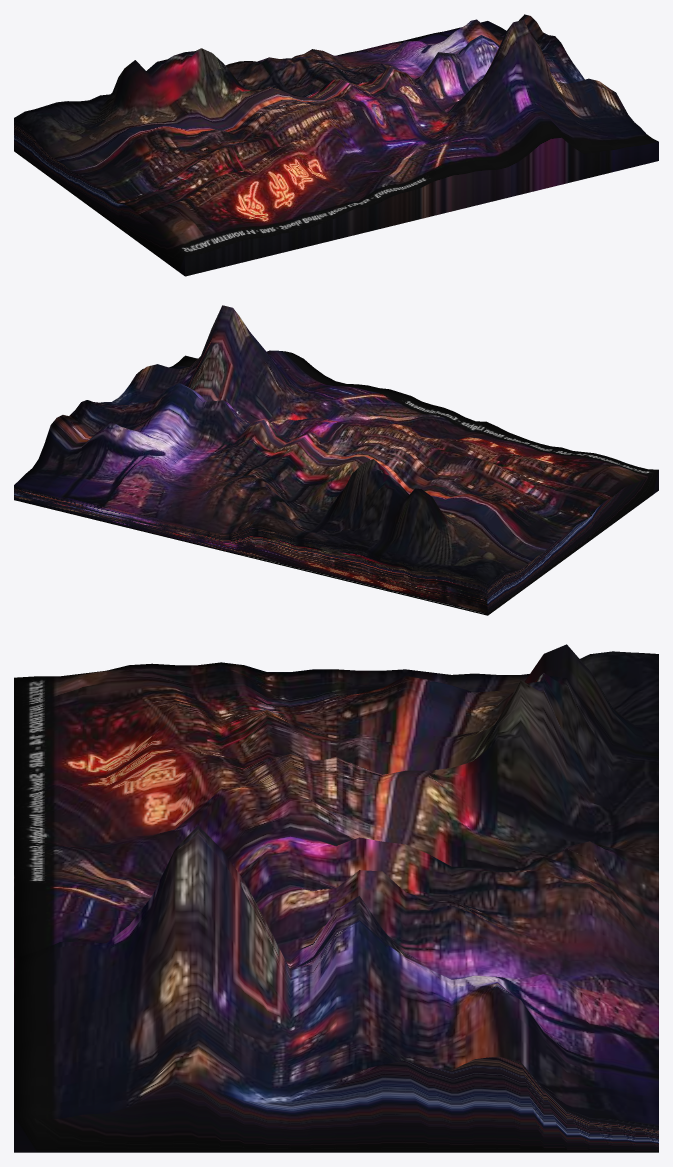
Rendered from SPECIAL_INT_14_Bar.glb.
3 renders of one model, top to bottom at view 1: azimuth 30°, elevation 25°; view 2: azimuth 150°, elevation 25°; view 3: azimuth 270°, elevation 25°, orthographic. The views are drawn at different scales.
Visible parts, largest first — view 1: SPECIAL_INT_14_Bar; view 2: SPECIAL_INT_14_Bar; view 3: SPECIAL_INT_14_Bar.
Boxes of the visible parts, bbox=[...] form: SPECIAL_INT_14_Bar: bbox=[14, 14, 658, 276]; SPECIAL_INT_14_Bar: bbox=[14, 305, 658, 615]; SPECIAL_INT_14_Bar: bbox=[14, 644, 658, 1152].
Bounding box in the file's own units: 2 × 0.51 × 1.25.
Materials: 1 (1 with a texture image).
